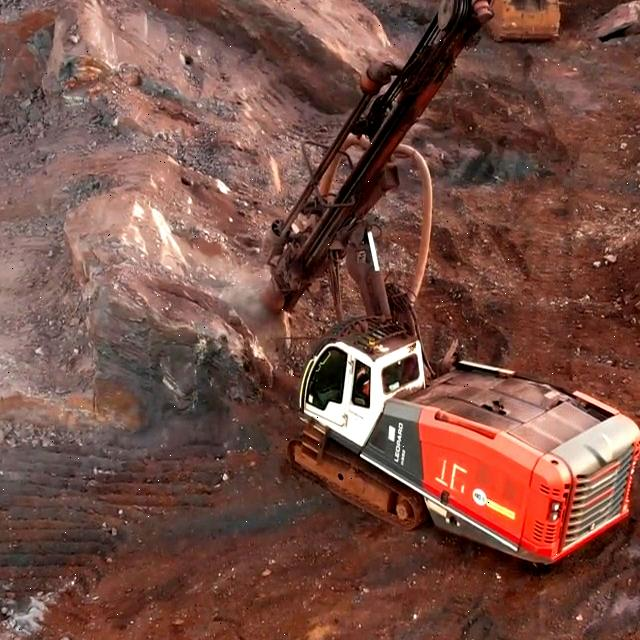Blast rig: (320, 366, 611, 514)
